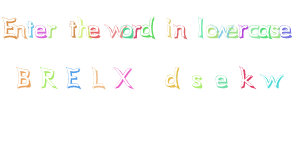B: (13, 63, 34, 92)
E: (63, 63, 85, 95), (2, 13, 16, 44)
L: (89, 64, 109, 93)
R: (37, 65, 59, 90)
X: (112, 64, 137, 91)
a: (260, 21, 272, 43)
c: (248, 22, 259, 42)
d: (159, 63, 185, 91), (140, 14, 158, 43)
e: (210, 71, 234, 92), (226, 22, 239, 43), (87, 23, 103, 39), (281, 23, 294, 42), (35, 22, 48, 40)
h: (79, 18, 87, 42)
i: (162, 16, 173, 41)
k: (237, 62, 257, 96)
l: (194, 15, 208, 44)
n: (173, 23, 187, 41), (16, 19, 27, 40)
o: (203, 23, 222, 43), (120, 21, 133, 41)
r: (238, 21, 249, 44), (131, 20, 142, 42), (47, 23, 57, 38)
s: (188, 69, 205, 93), (270, 22, 280, 43)
t: (23, 19, 36, 39), (66, 18, 77, 39)
w: (260, 68, 286, 91), (105, 22, 122, 42), (217, 22, 229, 43)
